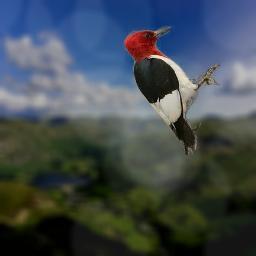Woodpecker: (122, 25, 220, 155)
